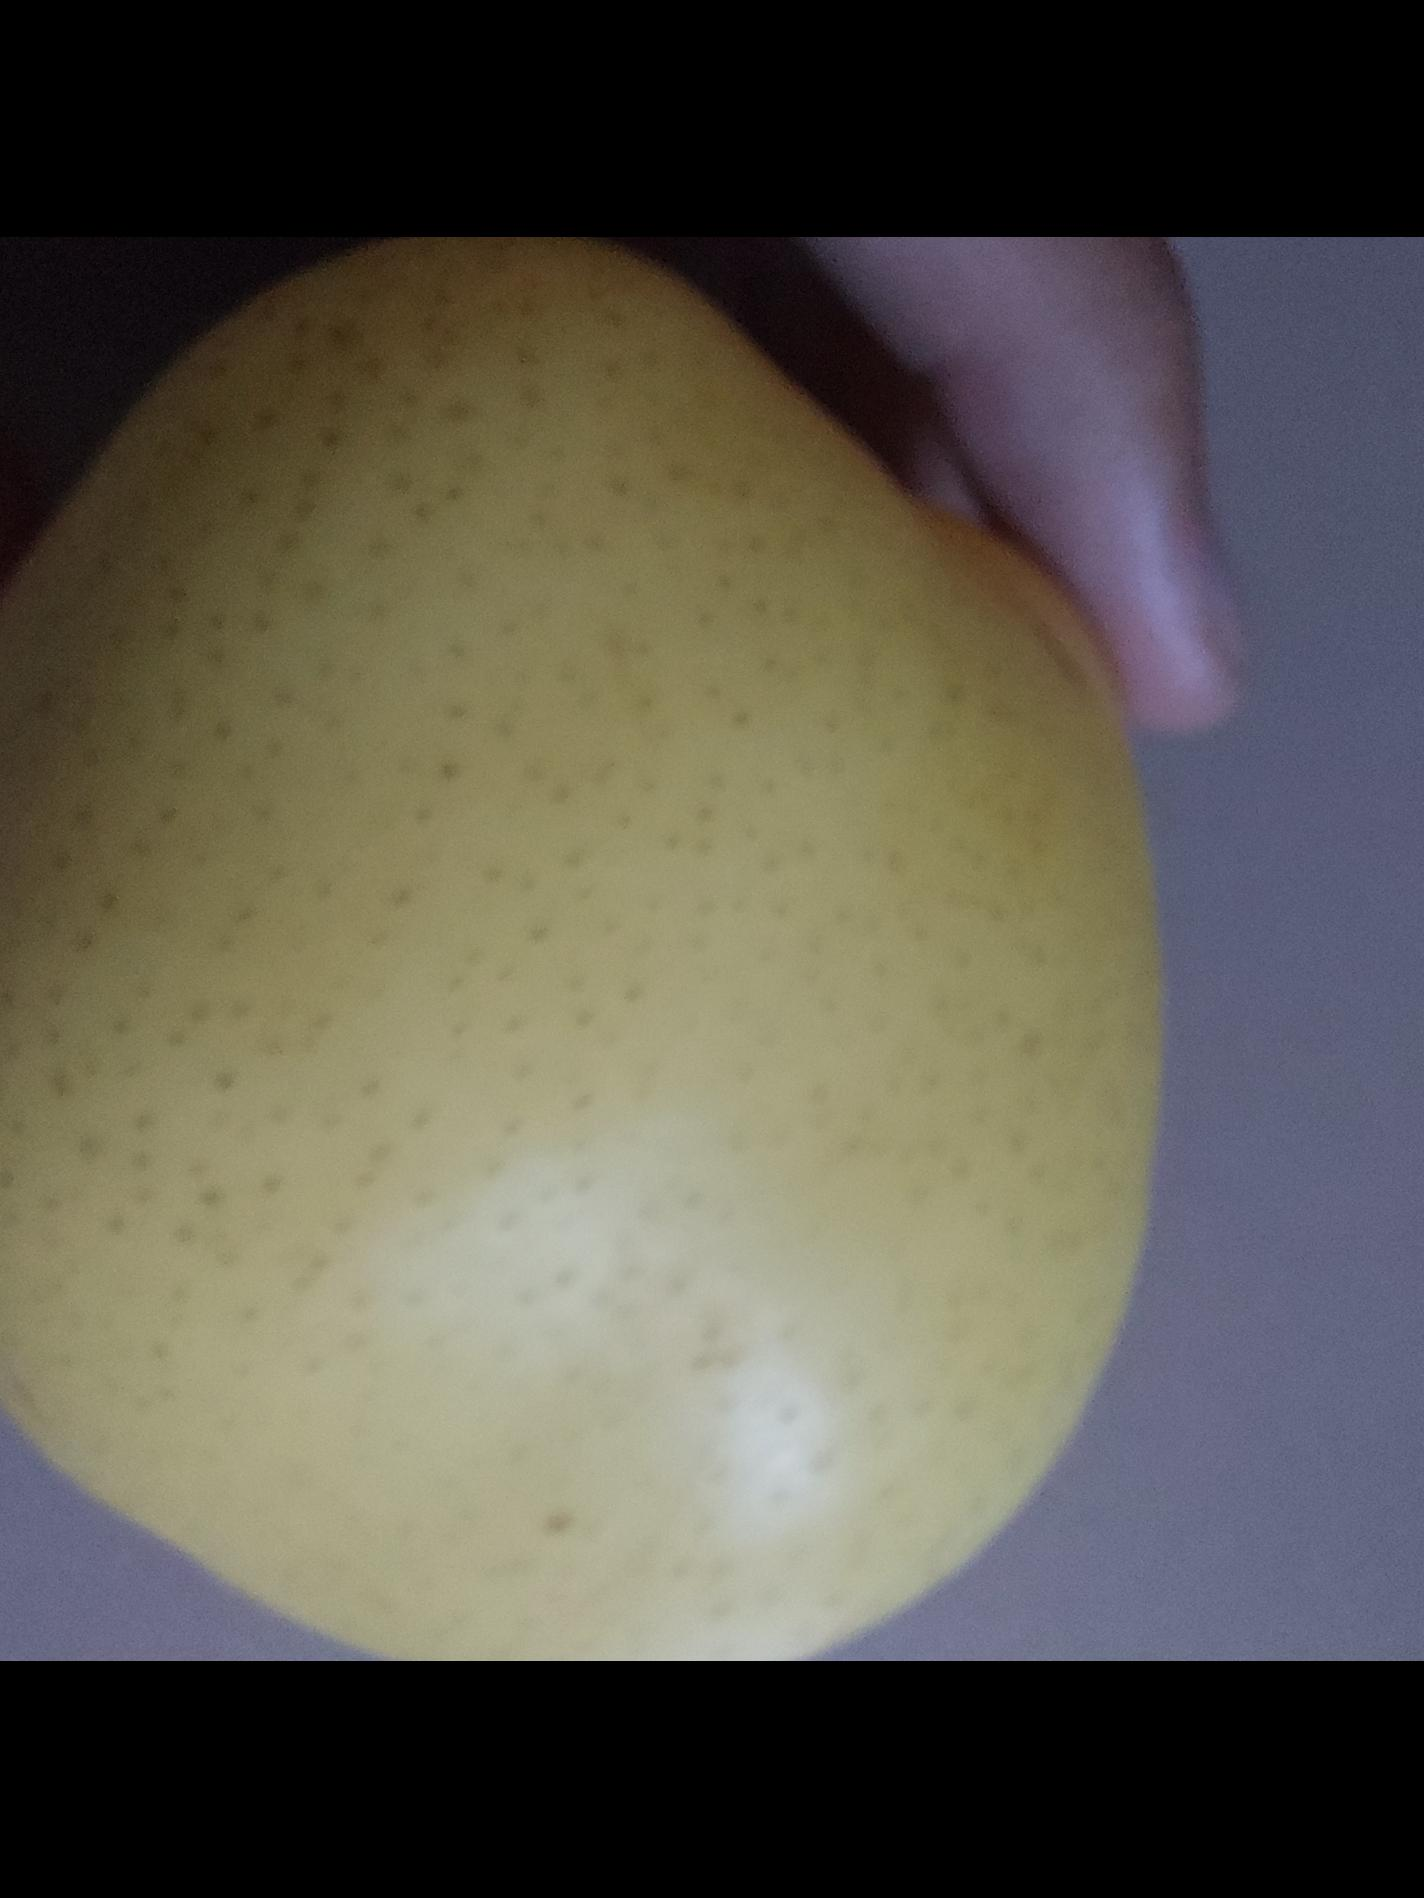Good Pear: (0, 250, 1132, 1662)
